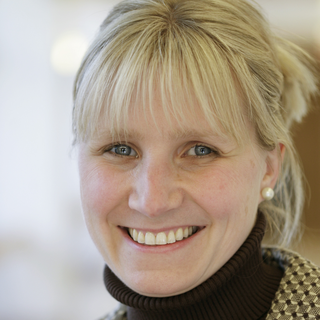eye: (173, 134, 225, 166), (92, 136, 143, 165)
